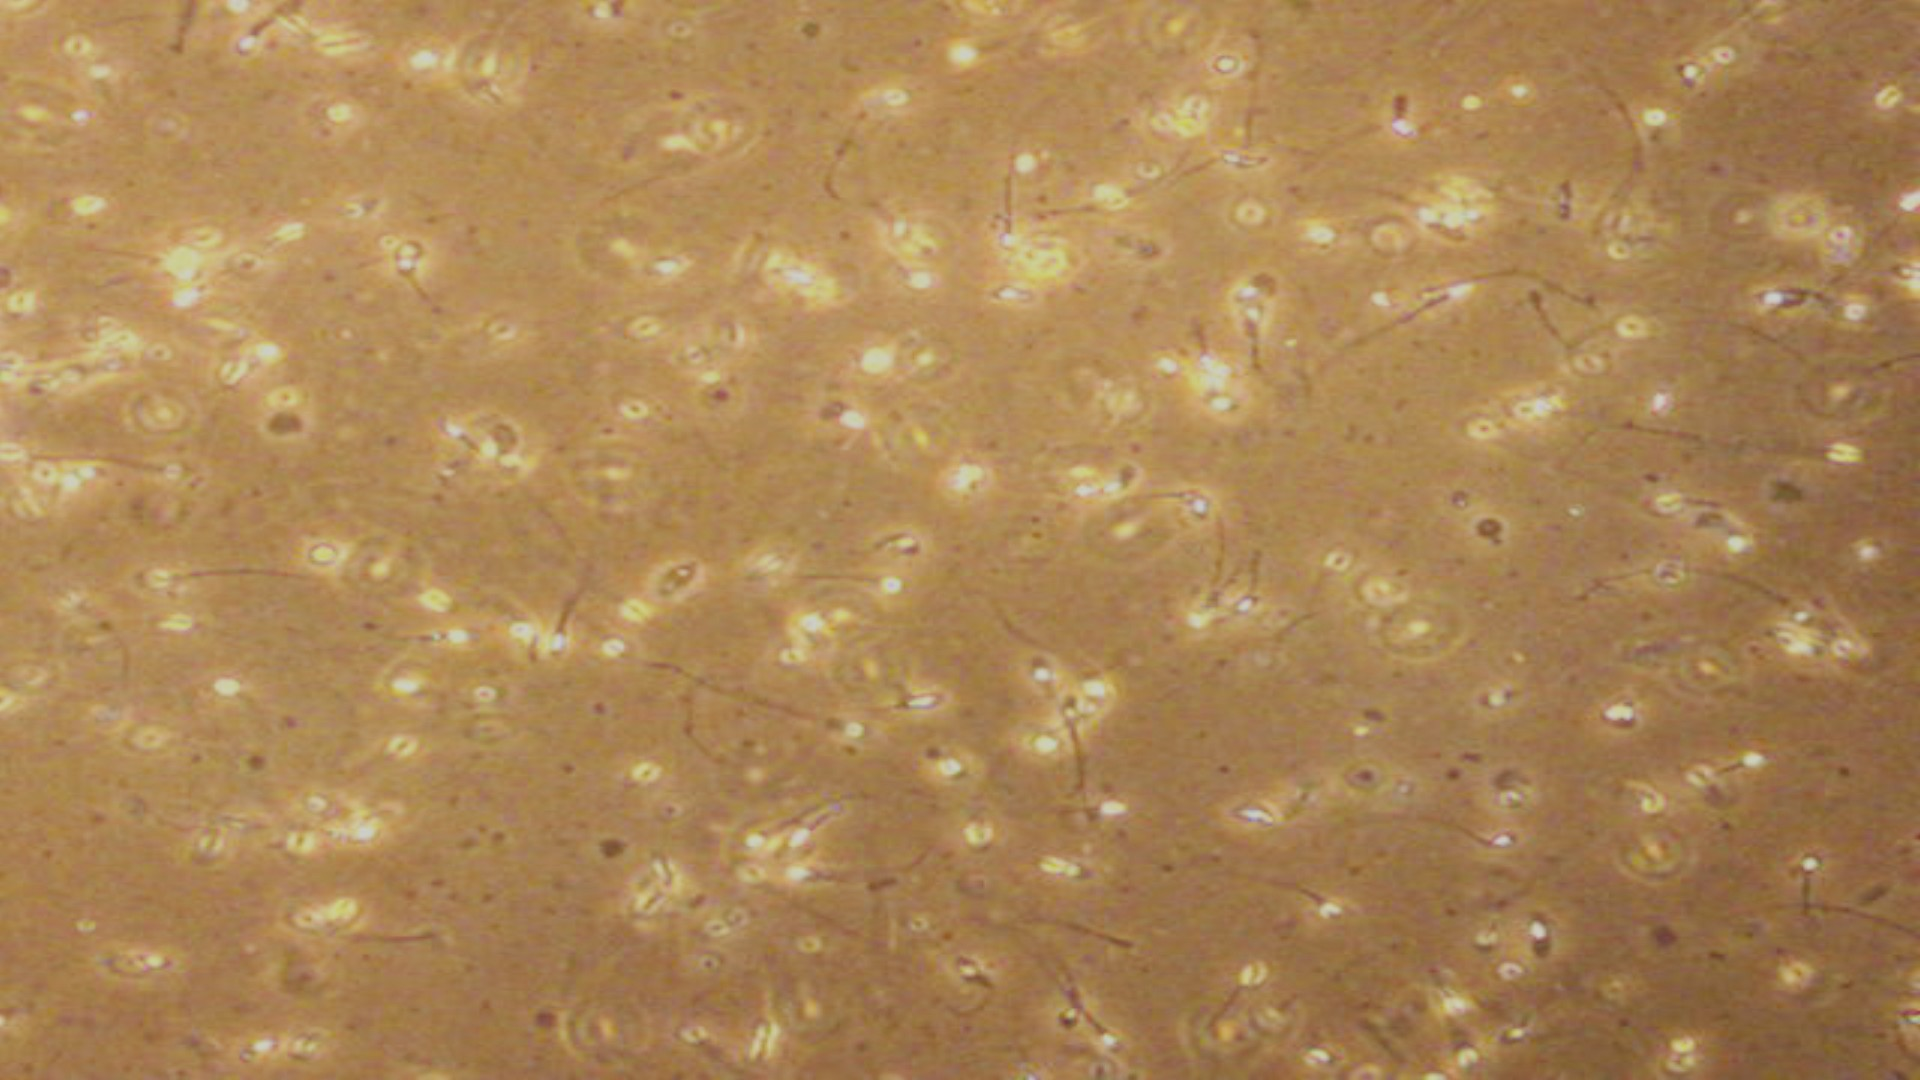sperm: (1353, 282, 1487, 384), (135, 559, 302, 626), (971, 153, 1043, 274), (1367, 804, 1528, 852), (1793, 843, 1876, 927), (742, 691, 866, 742), (524, 579, 600, 661), (1038, 981, 1124, 1052), (1328, 175, 1437, 229), (825, 178, 924, 233), (1245, 864, 1346, 916), (1011, 649, 1077, 729), (384, 258, 454, 331), (218, 15, 299, 73), (1234, 298, 1280, 386), (1149, 485, 1225, 538), (1516, 909, 1549, 967)
